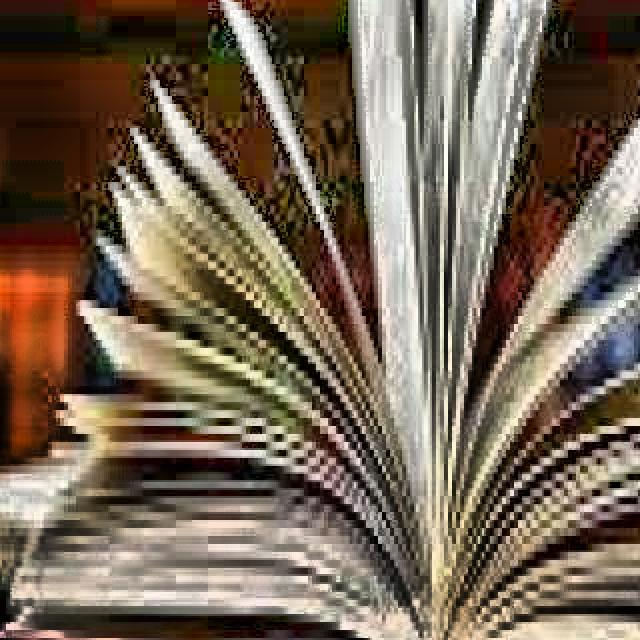paper: (0, 0, 640, 640), (0, 238, 68, 450)
